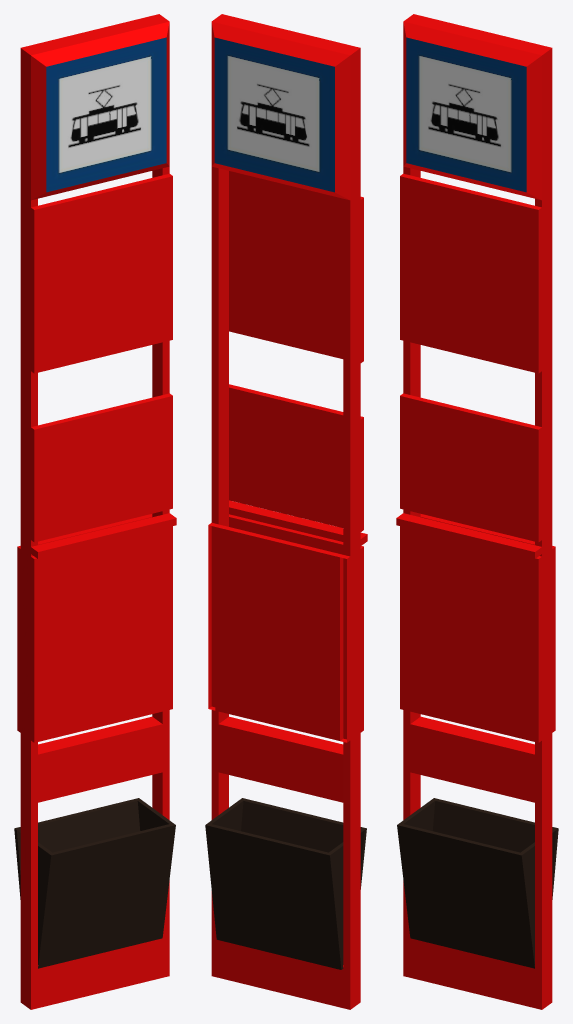
Rendered from Stop.obj.
3 renders of one model, left to right at view 1: azimuth 30°, elevation 25°; view 2: azimuth 150°, elevation 25°; view 3: azimuth 330°, elevation 25°, orthographic.
Visible parts, largest first — view 1: Cube; view 2: Cube; view 3: Cube.
Part boxes in pixels (x1,y1,x2,y2): Cube: (14,14,176,1009); Cube: (205,14,367,1009); Cube: (396,14,558,1009).
Bounding box in the file's own units: 0.5135 × 3.37 × 0.2375.
3 materials, 1 textured.
